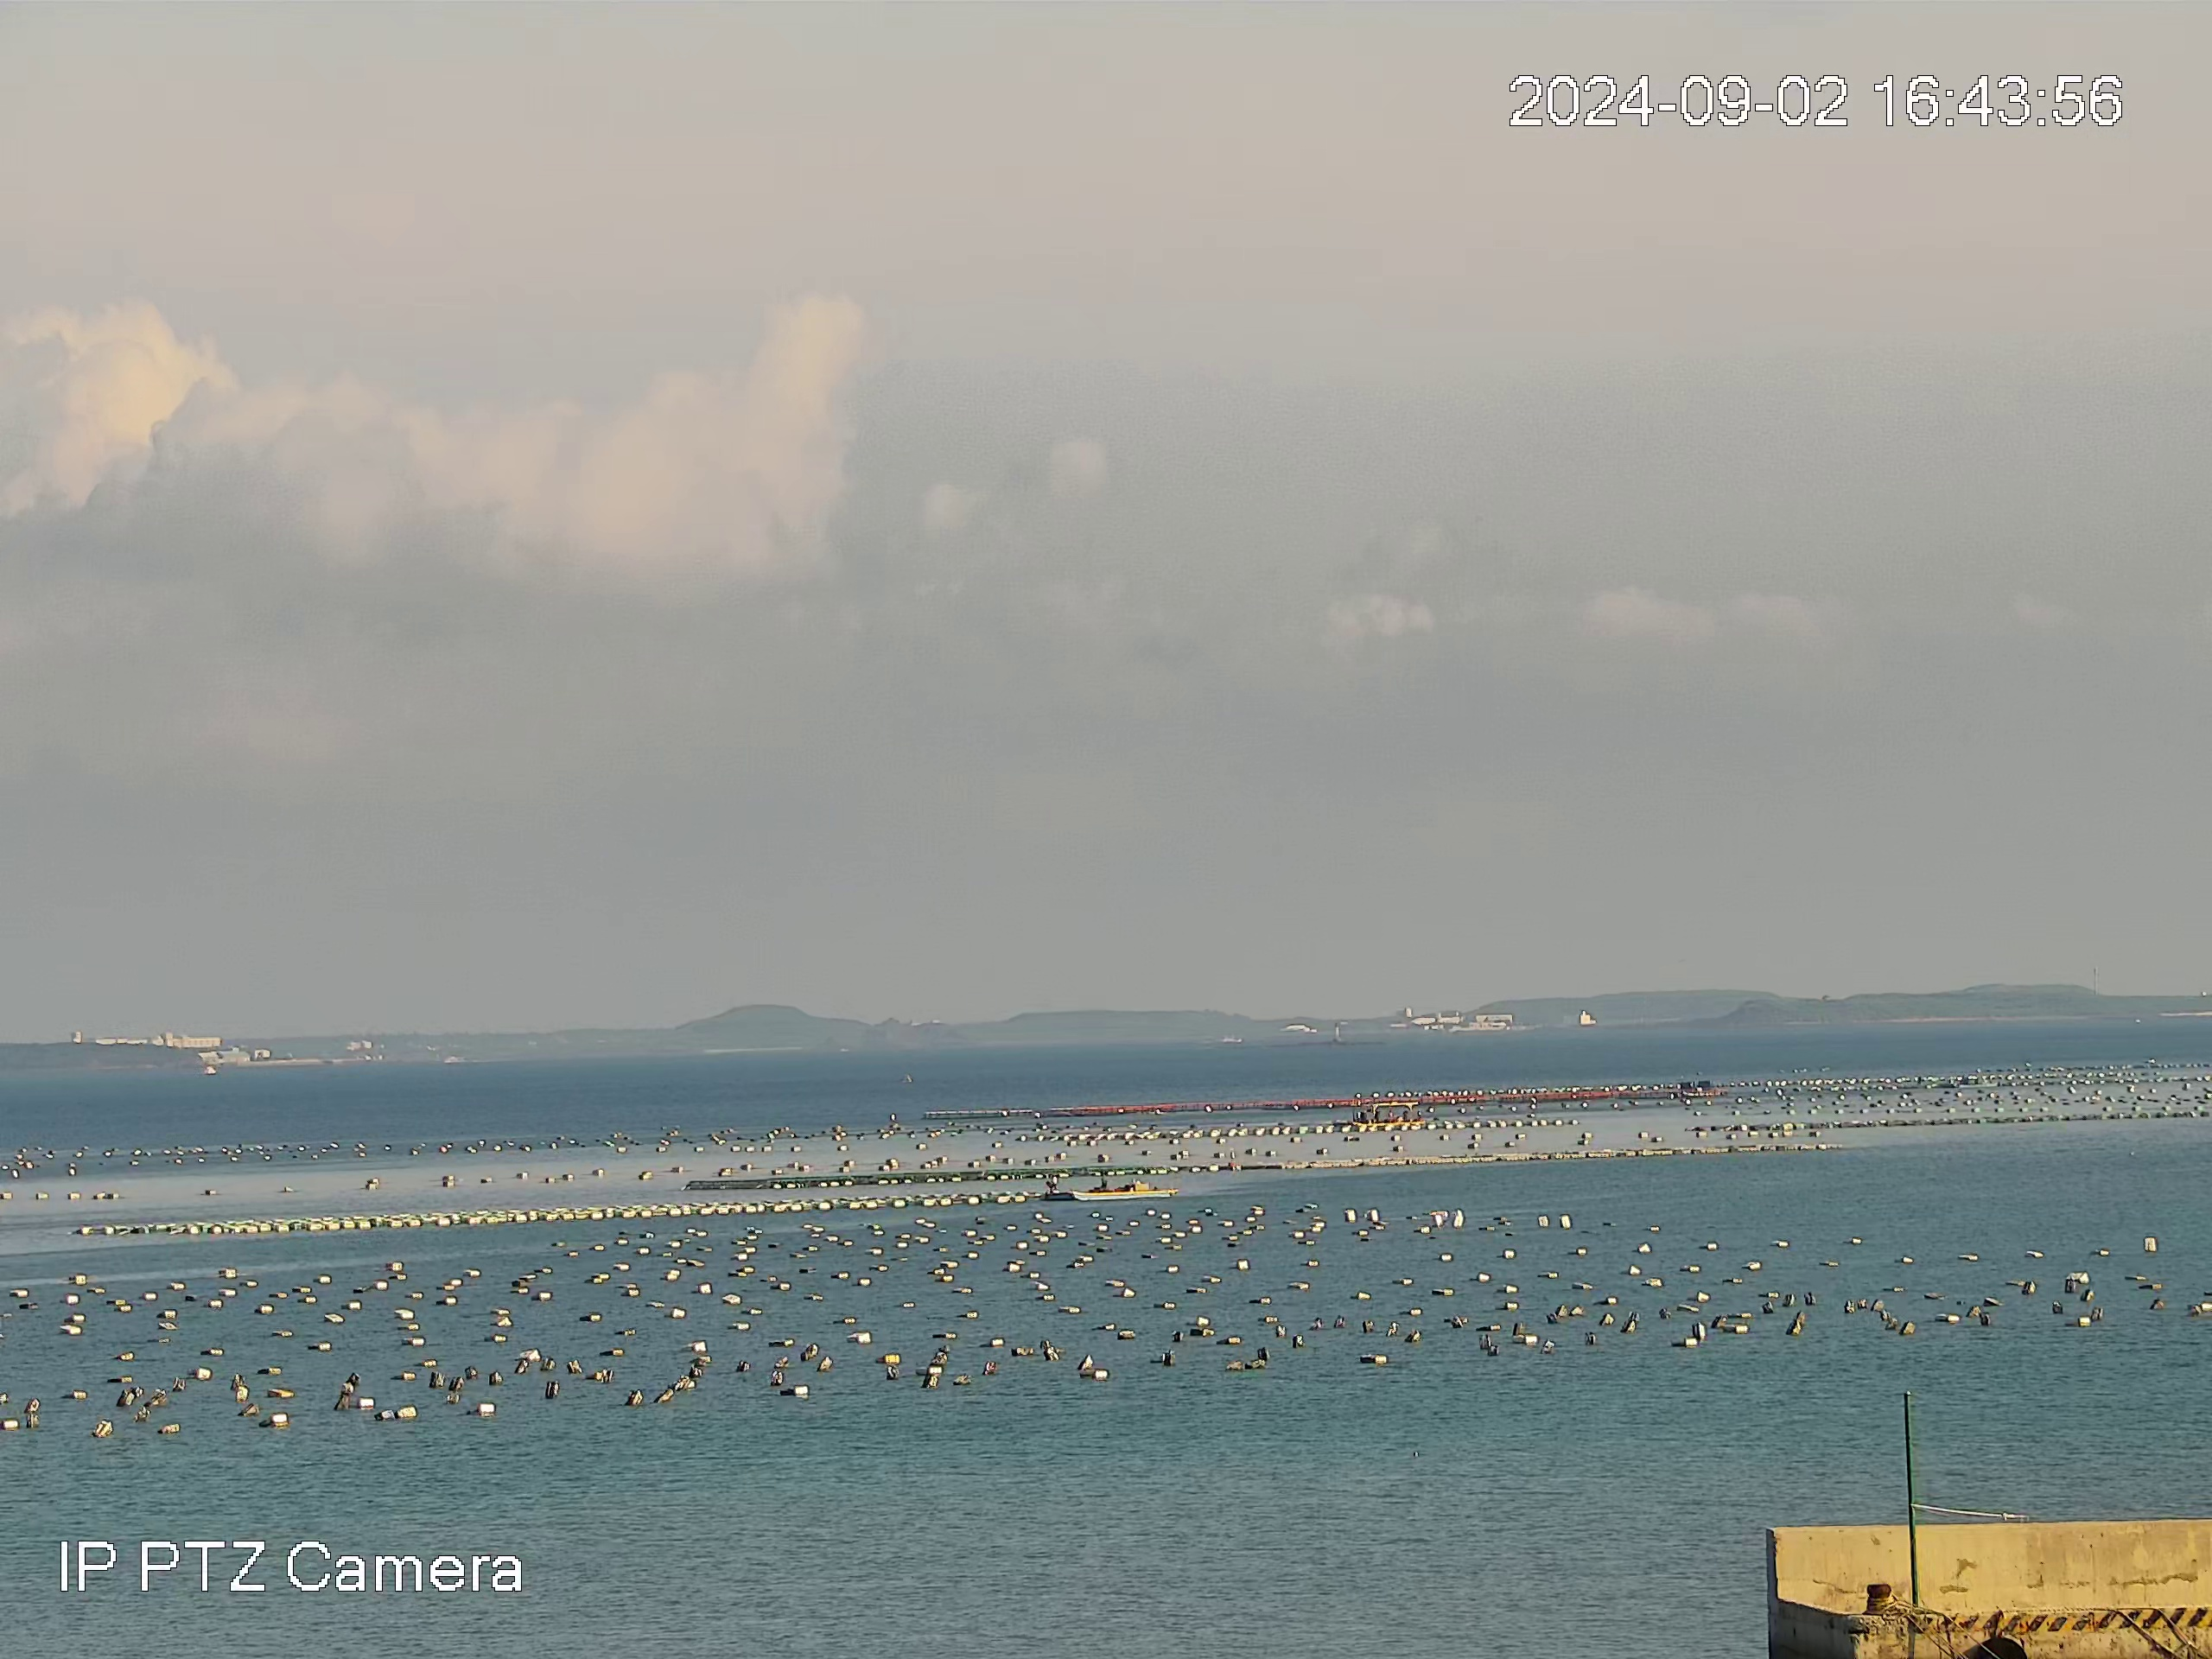boat: (1042, 1171, 1181, 1201), (1348, 1100, 1428, 1127)
